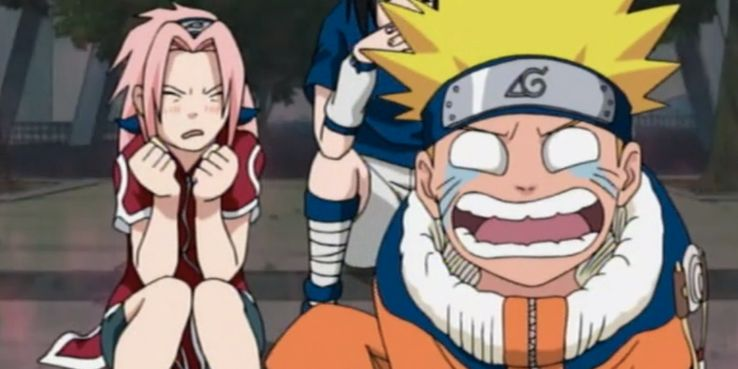naruto: (411, 51, 648, 290)
sakura: (127, 13, 249, 156)
